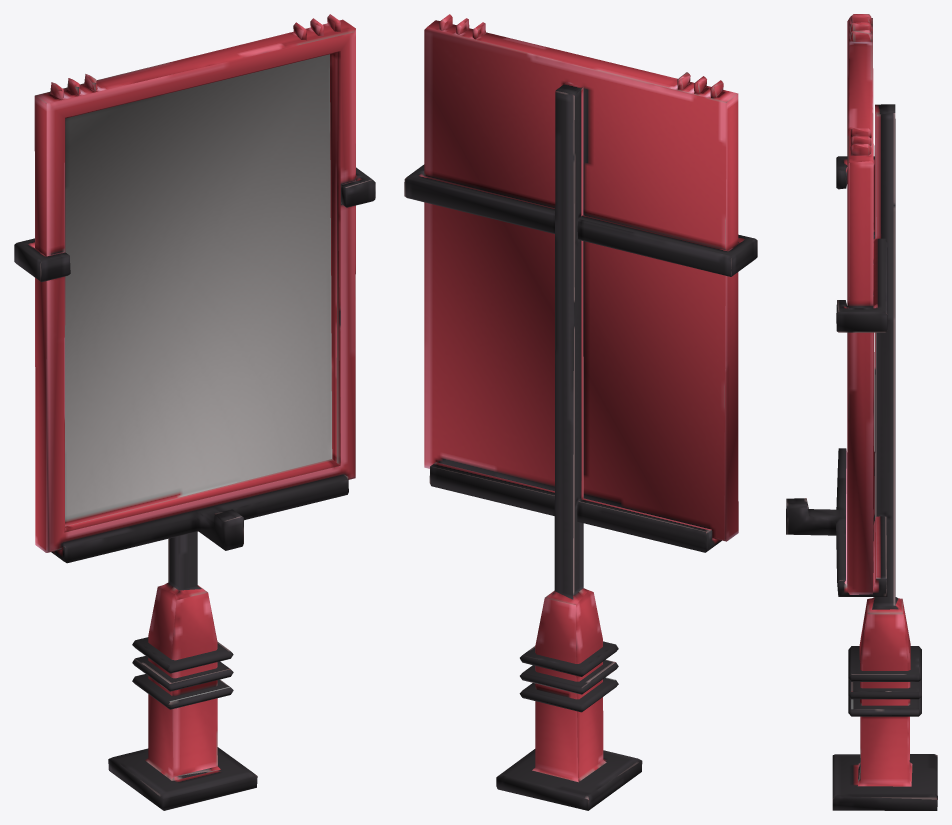
Rendered from huge_sign_LOD0.fbx.
3 renders of one model, left to right at view 1: azimuth 30°, elevation 25°; view 2: azimuth 150°, elevation 25°; view 3: azimuth 270°, elevation 25°, orthographic. The views are drawn at different scales.
Visible parts, largest first — view 1: huge_sign_LOD0; view 2: huge_sign_LOD0; view 3: huge_sign_LOD0.
Boxes of the visible parts, bbox=[...] form: huge_sign_LOD0: bbox=[14, 14, 375, 810]; huge_sign_LOD0: bbox=[404, 14, 757, 810]; huge_sign_LOD0: bbox=[786, 14, 937, 810].
Size of the model in its own units: 132 by 277 by 53.72.
